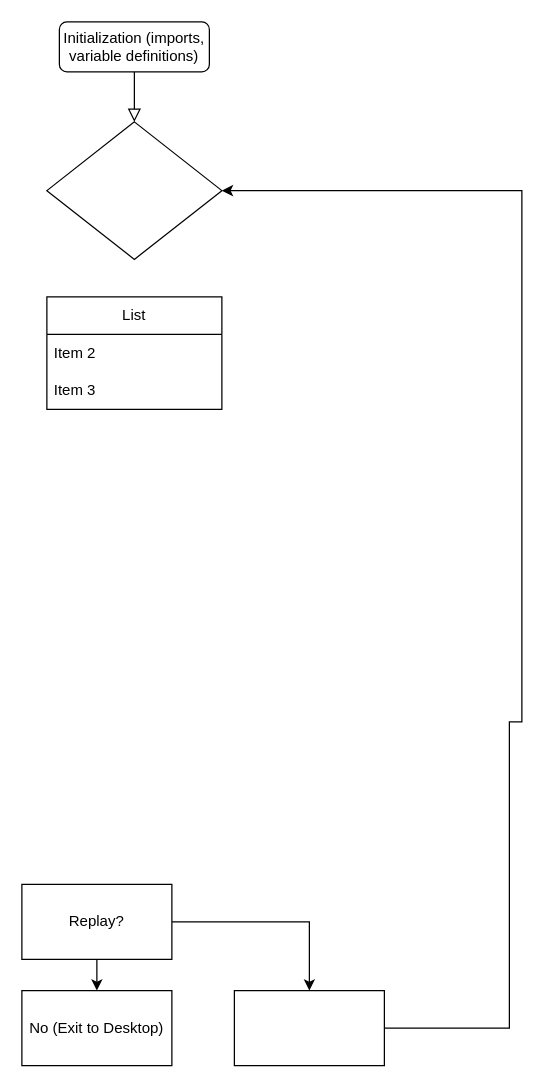
Image size: 554x1088. Some labels were removed from this diagram. Each missing label, with the centre of its shape:
Press Start (Menu Screen): point (134, 190)
Yes: point (308, 1027)
